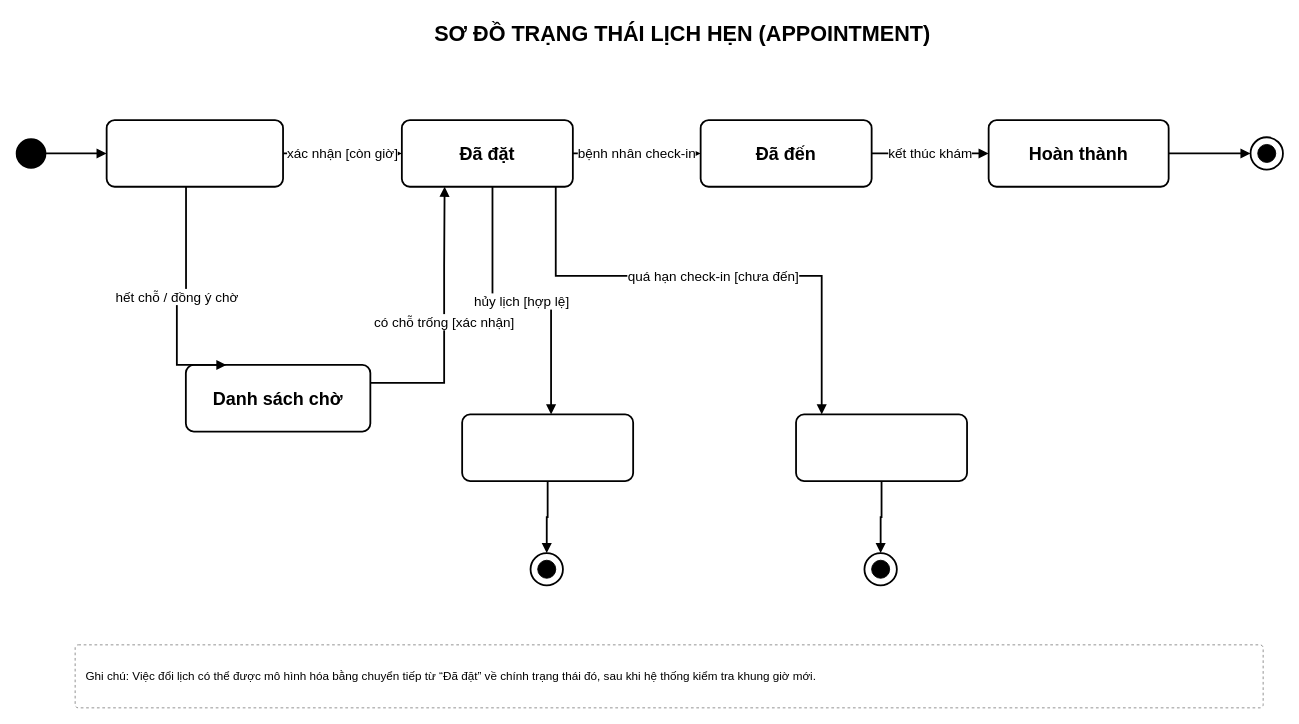
Image size: 1299x724. Some labels were removed from this diagram. Each missing label, with the box of its shape:
Chờ xác nhận: (105, 119, 284, 187)
Không đến: (795, 413, 968, 482)
Đã hủy: (461, 413, 634, 482)
